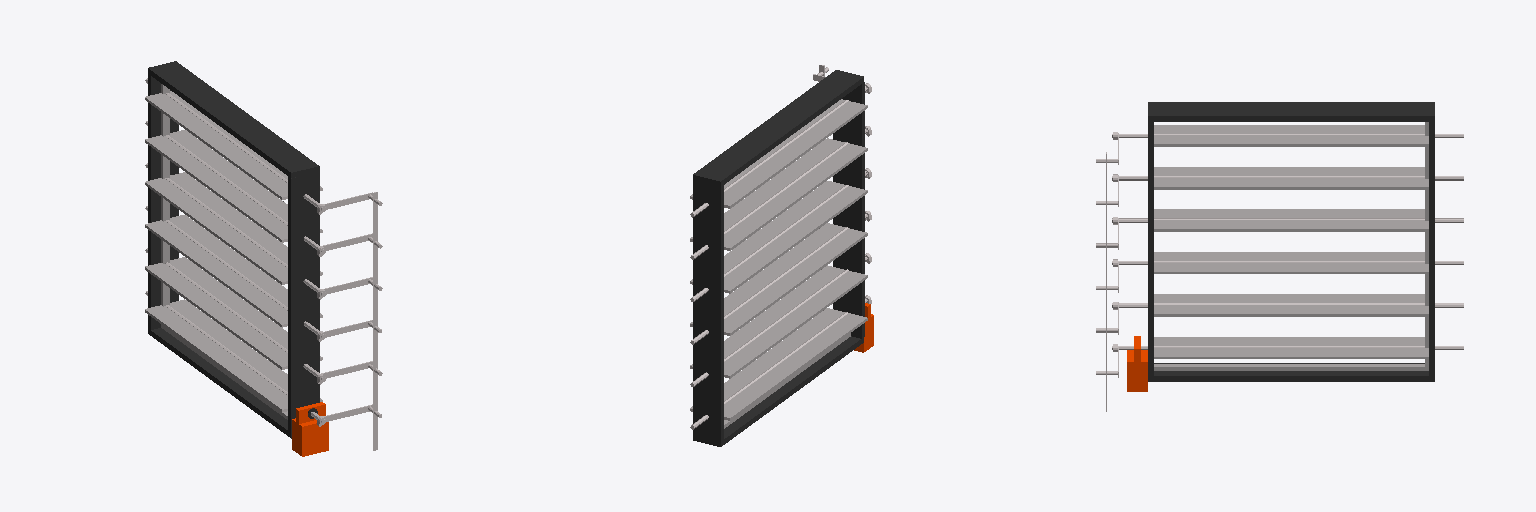
The model's file is damper-solo02E2.obj.
The picture shows the model from 3 angles: view 1: azimuth 30°, elevation 25°; view 2: azimuth 150°, elevation 25°; view 3: azimuth 270°, elevation 25°; orthographic projection.
Visible parts, largest first — view 1: damper-solo02E2.obj; view 2: damper-solo02E2.obj; view 3: damper-solo02E2.obj.
Boxes of the visible parts, x1,y1,x2,y2 form: damper-solo02E2.obj: [145, 61, 382, 456]; damper-solo02E2.obj: [690, 65, 873, 446]; damper-solo02E2.obj: [1096, 102, 1463, 411].
Bounding box in the file's own units: 0.2653 × 0.9546 × 1.15.